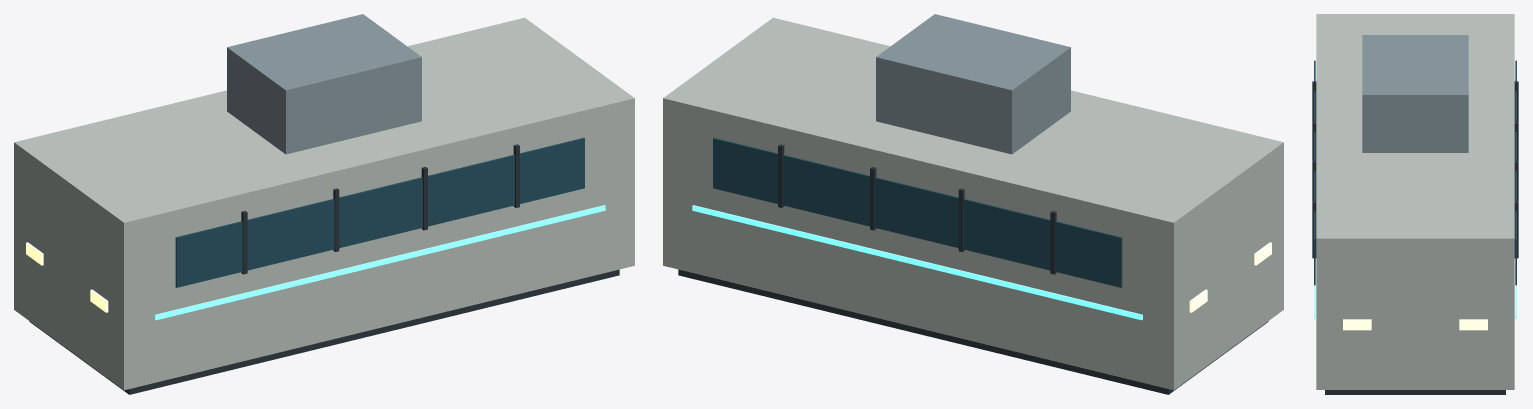
File: data-tram.lod1.glb
The picture shows the model from 3 angles, left to right: view 1: azimuth 30°, elevation 25°; view 2: azimuth 150°, elevation 25°; view 3: azimuth 270°, elevation 25°; orthographic projection. The views are drawn at different scales.
Visible parts, largest first — view 1: structure; view 2: structure; view 3: structure.
Boxes of the visible parts, box(x1,y1,x2,y2) form: structure: box(14, 14, 634, 394); structure: box(663, 14, 1283, 394); structure: box(1312, 14, 1518, 394).
Bounding box in the file's own units: 7.59 × 3.46 × 2.91.
